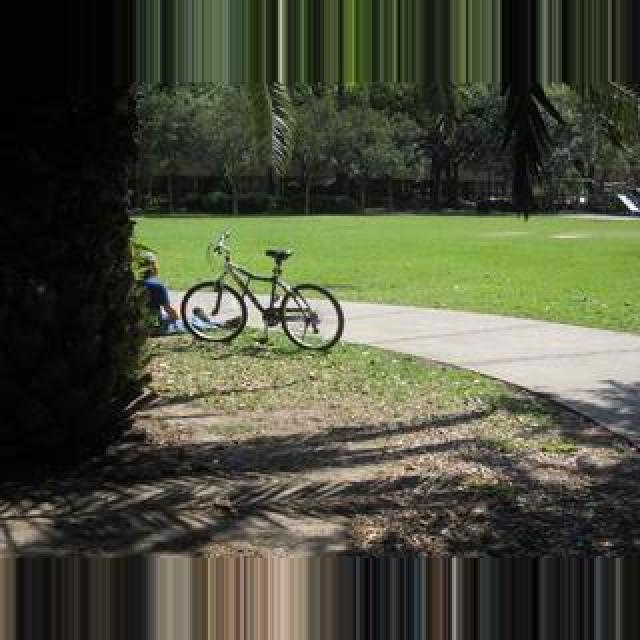MC-Bike: (134, 250, 180, 334)
Person: (179, 230, 345, 352)
